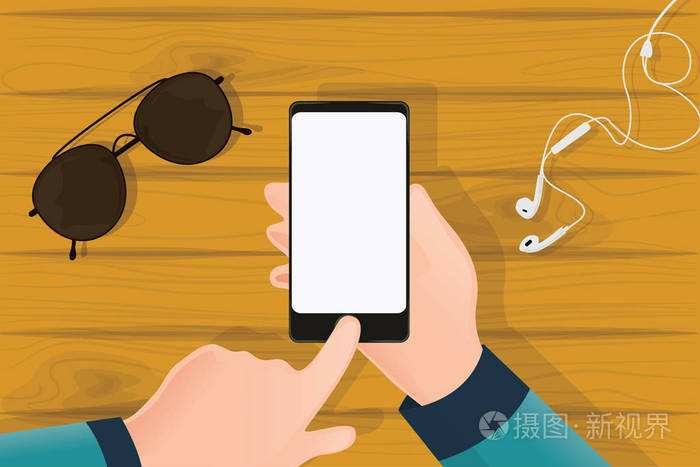phone: (267, 95, 483, 385)
